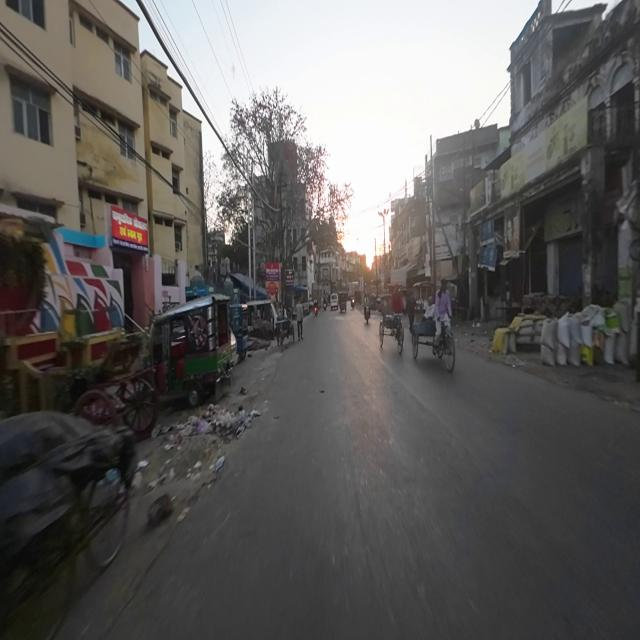Garbage: (179, 400, 252, 445)
